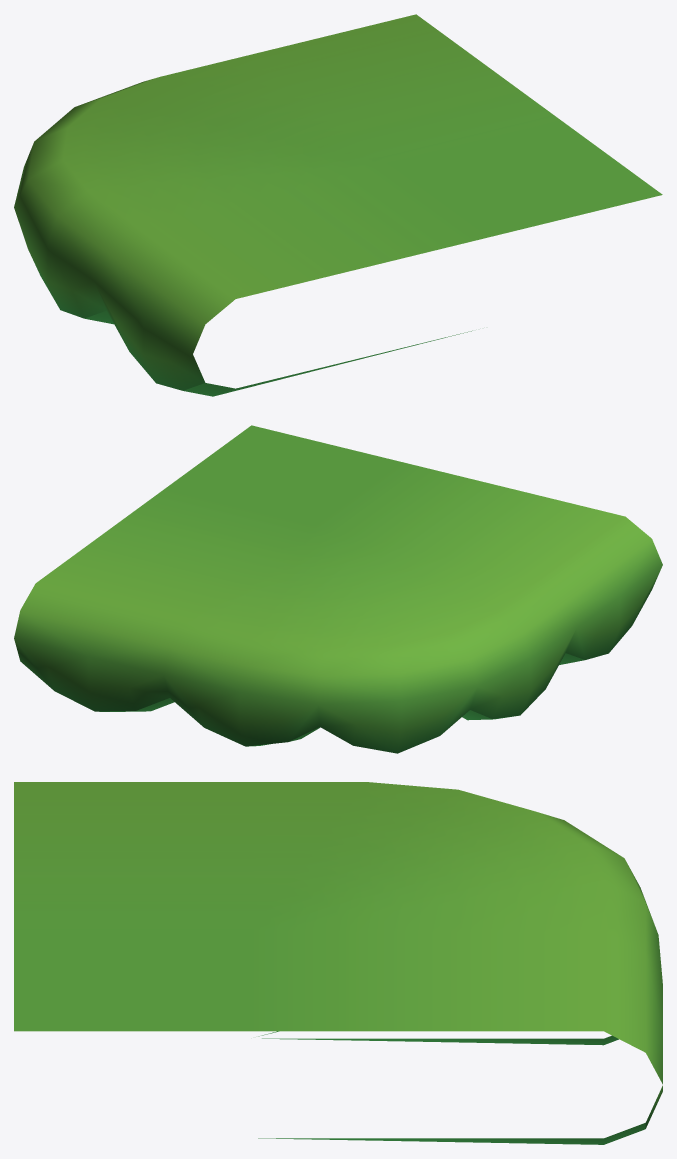
File: Hill_Top_A_OuterCorner_Color1.gltf
3 renders of one model, top to bottom at view 1: azimuth 30°, elevation 25°; view 2: azimuth 150°, elevation 25°; view 3: azimuth 270°, elevation 25°, orthographic. The views are drawn at different scales.
Visible parts, largest first — view 1: Hill_Top_A_OuterCorner_Color1; view 2: Hill_Top_A_OuterCorner_Color1; view 3: Hill_Top_A_OuterCorner_Color1.
Part boxes in pixels (left/top/right/bottom): Hill_Top_A_OuterCorner_Color1: left=14, top=14, right=662, bottom=396; Hill_Top_A_OuterCorner_Color1: left=14, top=425, right=662, bottom=753; Hill_Top_A_OuterCorner_Color1: left=14, top=782, right=662, bottom=1144.
Size of the model in its own units: 2.75 by 0.7052 by 2.75.
1 material, 1 textured.
